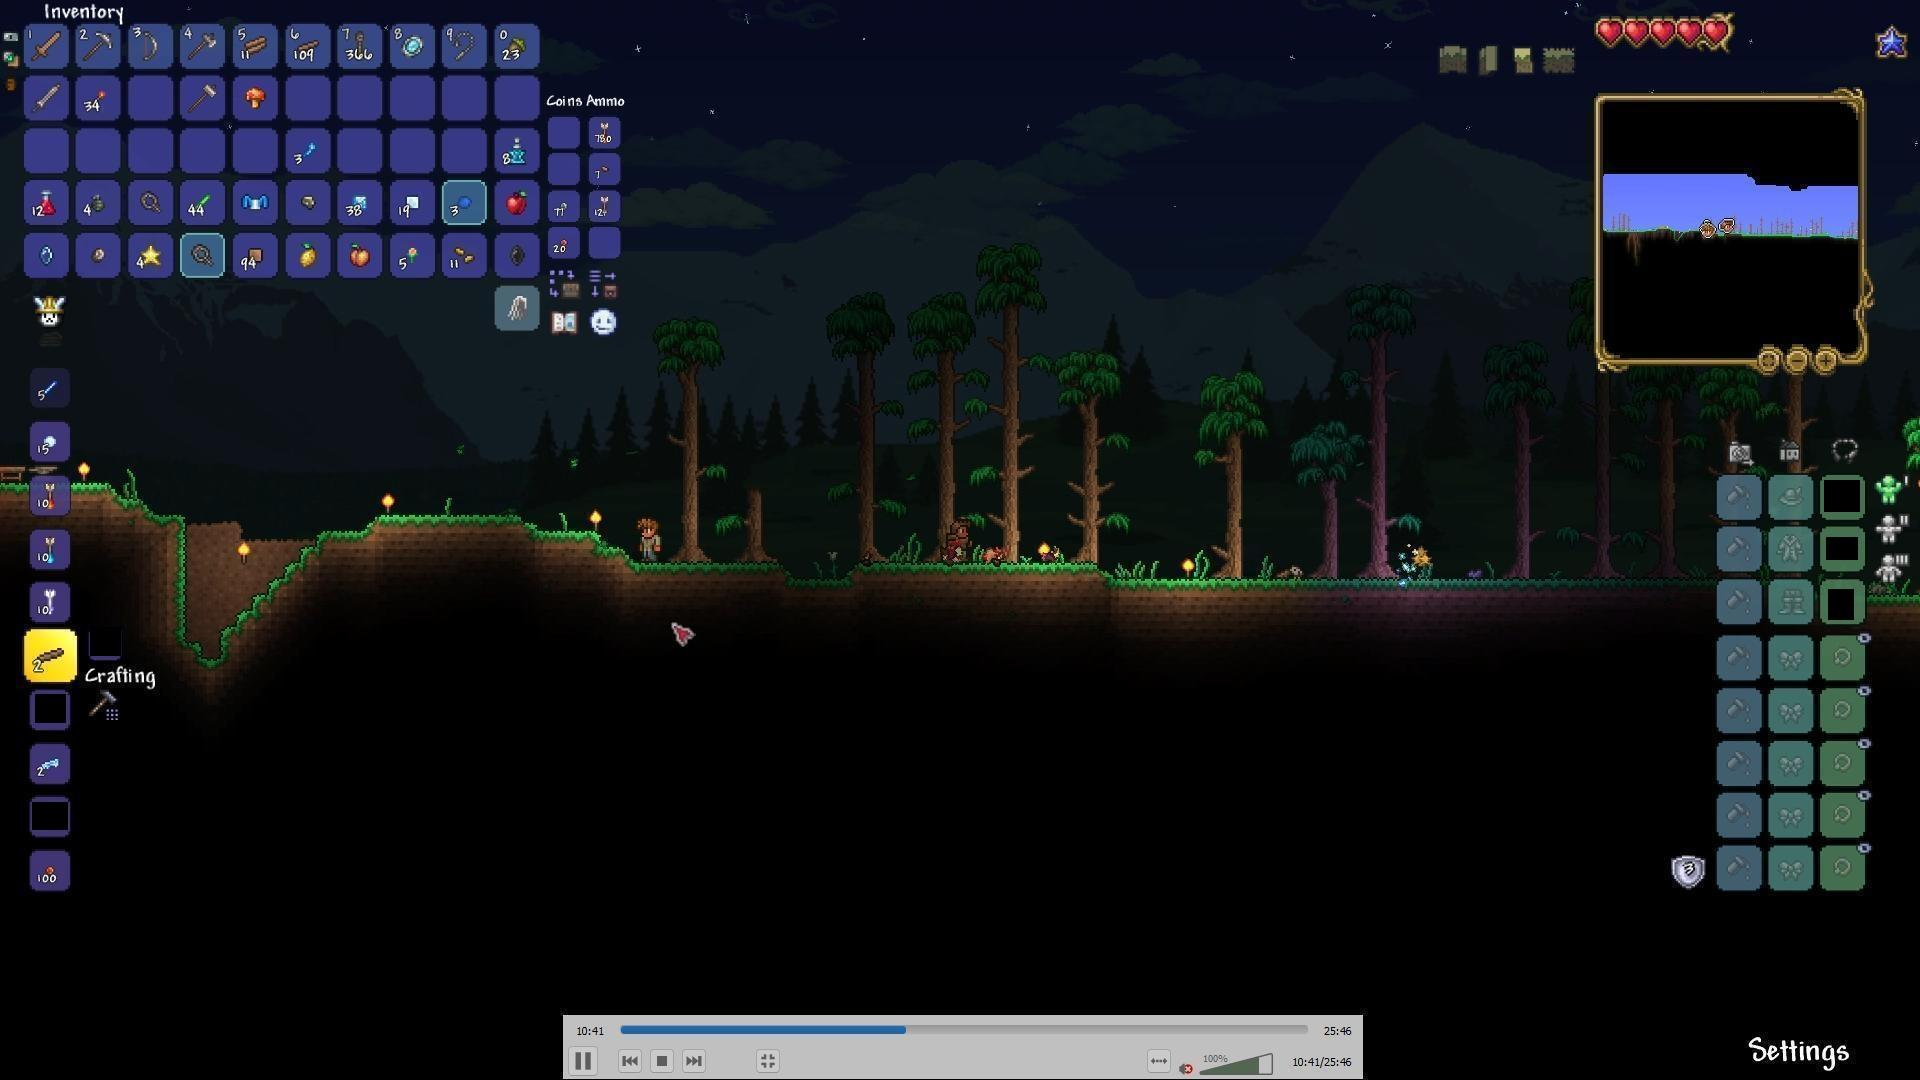wood: (241, 37, 272, 65)
workbench: (0, 464, 29, 488)
